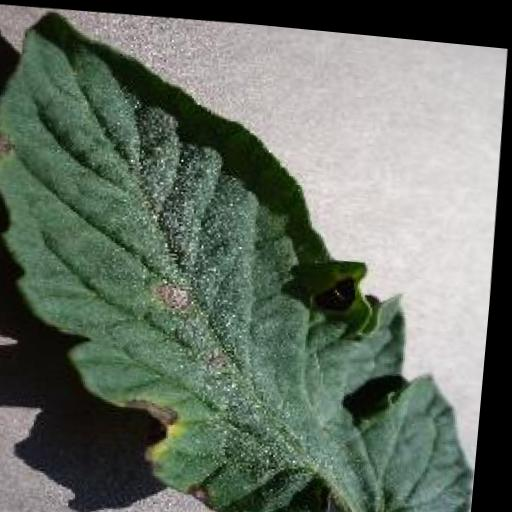Early Blight: (0, 10, 511, 512)
